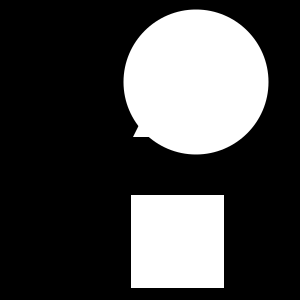circle: (131, 195, 224, 288)
rectangle: (123, 9, 268, 154)
triangle: (133, 37, 233, 137)
